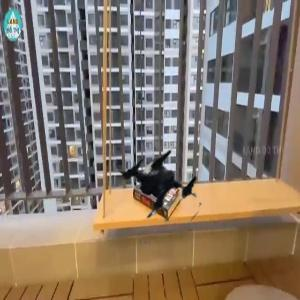drone: (95, 134, 210, 249)
